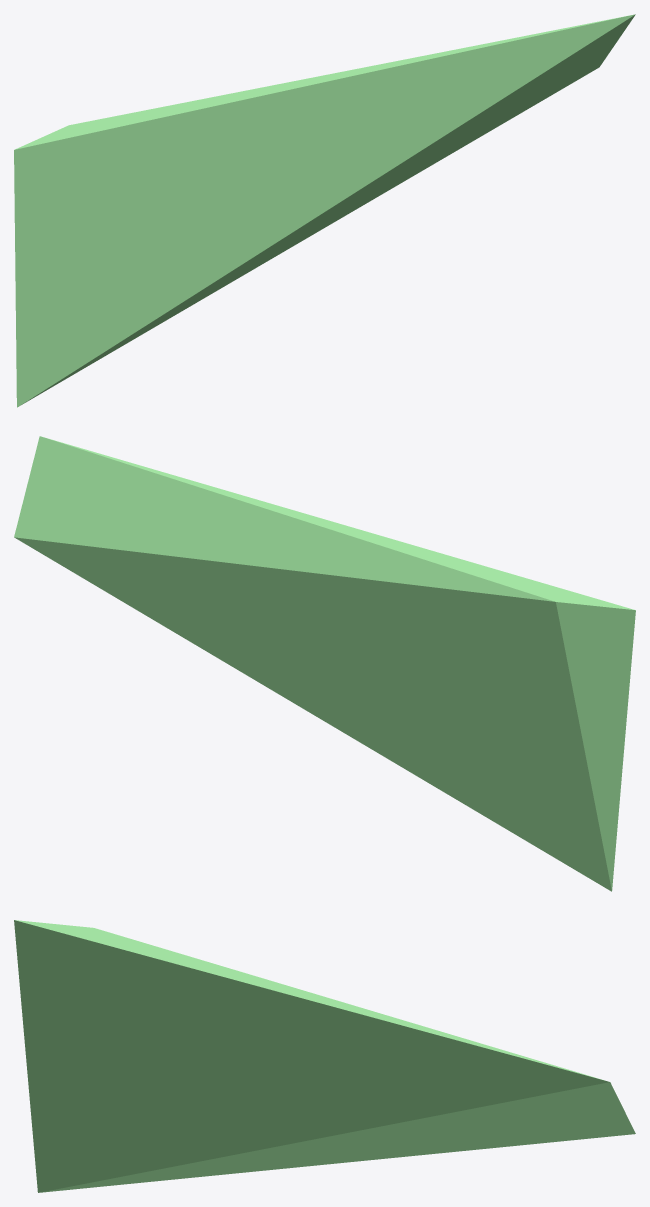
The model's file is xarm7_with_gripper_robot_base_coll_15.dae.
3 renders of one model, top to bottom at view 1: azimuth 30°, elevation 25°; view 2: azimuth 150°, elevation 25°; view 3: azimuth 330°, elevation 25°, orthographic. The views are drawn at different scales.
Visible parts, largest first — view 1: Node_000001B89B5E36E0; view 2: Node_000001B89B5E36E0; view 3: Node_000001B89B5E36E0.
Boxes of the visible parts, <box> form: Node_000001B89B5E36E0: <box>14,14,635,407</box>; Node_000001B89B5E36E0: <box>14,436,635,891</box>; Node_000001B89B5E36E0: <box>14,920,635,1192</box>.
Bounding box in the file's own units: 0.0799 × 0.0349 × 0.0078.
